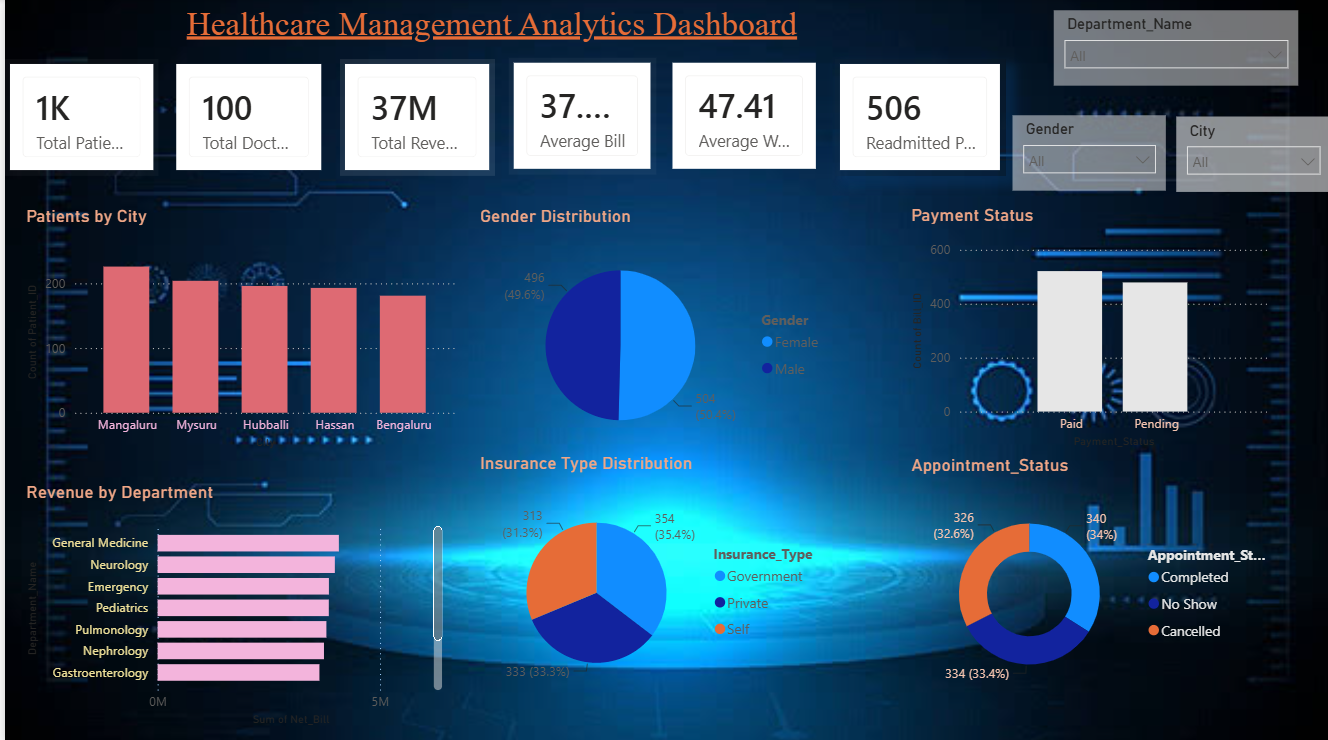

The dashboard page shown, as its layout file describes it:
{"tool":"powerbi","page":{"name":"Page 1","canvas":[1280,720],"ordinal":0},"visuals":[{"type":"cardVisual","fields":{"Data":["Appointments.Total Patients"]},"box":[0,57.6,148.2,112.5],"z":0},{"type":"cardVisual","fields":{"Data":["Appointments.Total Doctors"]},"box":[160.5,57.6,150.9,112.5],"z":1000},{"type":"cardVisual","fields":{"Data":["Appointments.Total Revenue"]},"box":[323.8,57.6,149.6,112.5],"z":2000},{"type":"cardVisual","fields":{"Data":["Appointments.Average Bill"]},"box":[485.8,56.3,142.7,112.5],"z":3000},{"type":"cardVisual","fields":{"Data":["Appointments.Average Waiting Time"]},"box":[639.5,56.3,148.2,112.5],"z":4000},{"type":"cardVisual","fields":{"Data":["Appointments.Readmitted Patients"]},"box":[801.4,57.6,164.7,112.5],"z":5000},{"type":"clusteredColumnChart","title":"Patients by City","fields":{"Category":["Patients.City"],"Y":["CountNonNull(Patients.Patient_ID)"]},"box":[15.7,199.1,424.7,240.1],"z":6000},{"type":"clusteredBarChart","title":"Revenue by Department","fields":{"Category":["Departments.Department_Name"],"Y":["Sum(Billing.Net_Bill)"]},"box":[15.7,465.7,411.4,240.1],"z":7000},{"type":"pieChart","title":"Gender Distribution","fields":{"Category":["Patients.Gender"],"Y":["CountNonNull(Patients.Patient_ID)"]},"box":[454.2,199,347.2,240.1],"z":8000},{"type":"pieChart","title":"Insurance Type Distribution","fields":{"Category":["Patients.Insurance_Type"],"Y":["CountNonNull(Patients.Patient_ID)"]},"box":[454,438,347,240],"z":9000},{"type":"clusteredColumnChart","title":"Payment Status","fields":{"Category":["Billing.Payment_Status"],"Y":["CountNonNull(Billing.Bill_ID)"]},"box":[870,197.6,354,240.1],"z":10000},{"type":"donutChart","title":" Appointment_Status","fields":{"Y":["CountNonNull(Appointments.Appointment_ID)"],"Category":["Appointments.Appointment_Status"]},"box":[870,439.1,354,240],"z":11000},{"type":"slicer","fields":{"Values":["Doctors.Department_Name"]},"box":[1012.7,11,236,72.7],"z":12000},{"type":"slicer","fields":{"Values":["Patients.City"]},"box":[1130.7,113.9,149.6,72.7],"z":13000},{"type":"slicer","fields":{"Values":["Patients.Gender"]},"box":[972.9,112.5,148.2,72.7],"z":14000},{"type":"textbox","box":[100.2,0,739.6,48],"z":15000}]}

Visuals, with their boxes in screenshot pixels (x1, y1, x2, y2), scaled from the page's 1280x720 canvas onto the 1328x740 screenshot:
cardVisual - Appointments.Total Patients: [0, 59, 154, 175]
cardVisual - Appointments.Total Doctors: [167, 59, 323, 175]
cardVisual - Appointments.Total Revenue: [336, 59, 491, 175]
cardVisual - Appointments.Average Bill: [504, 58, 652, 173]
cardVisual - Appointments.Average Waiting Time: [663, 58, 817, 173]
cardVisual - Appointments.Readmitted Patients: [831, 59, 1002, 175]
"Patients by City" clusteredColumnChart: [16, 205, 457, 451]
"Revenue by Department" clusteredBarChart: [16, 479, 443, 725]
"Gender Distribution" pieChart: [471, 205, 831, 451]
"Insurance Type Distribution" pieChart: [471, 450, 831, 697]
"Payment Status" clusteredColumnChart: [903, 203, 1270, 450]
" Appointment_Status" donutChart: [903, 451, 1270, 698]
slicer - Doctors.Department_Name: [1051, 11, 1296, 86]
slicer - Patients.City: [1173, 117, 1327, 192]
slicer - Patients.Gender: [1009, 116, 1163, 190]
textbox: [104, 0, 871, 49]
